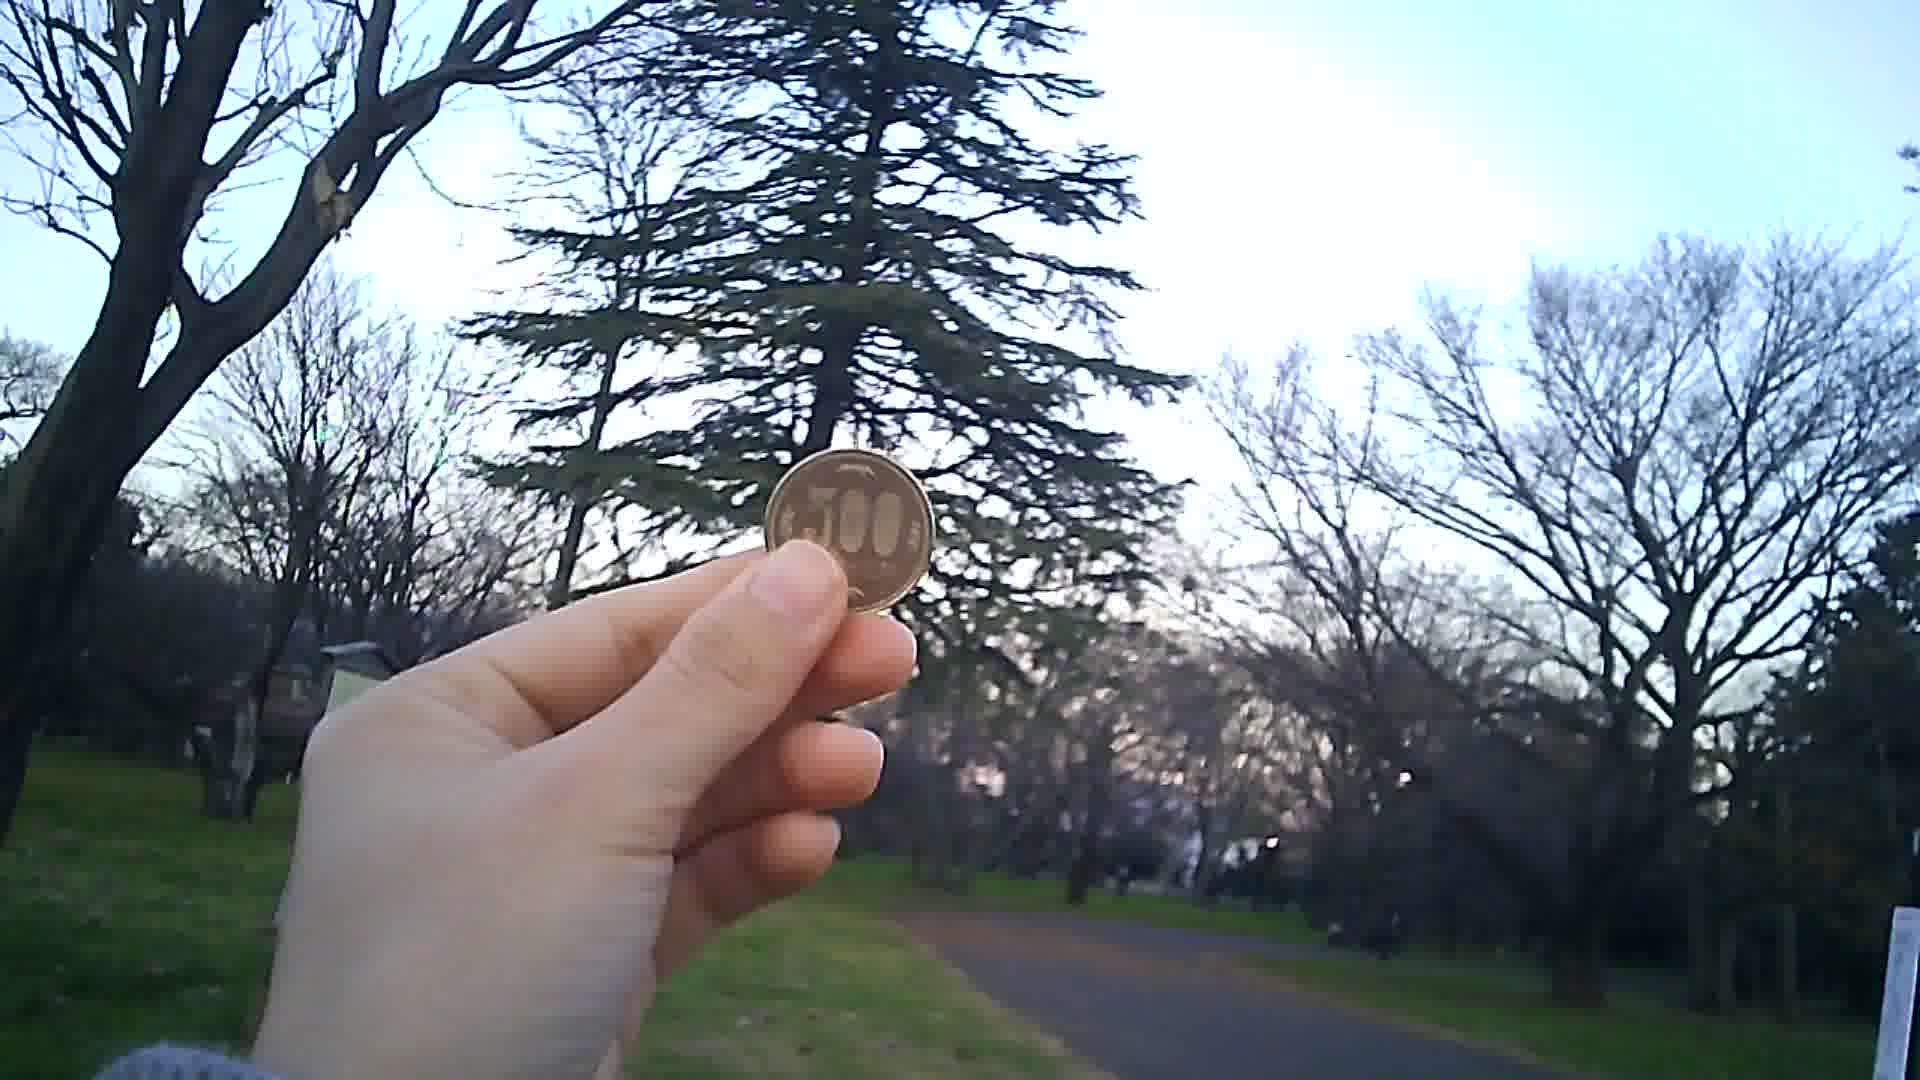500 Yen: (762, 446, 945, 620)
